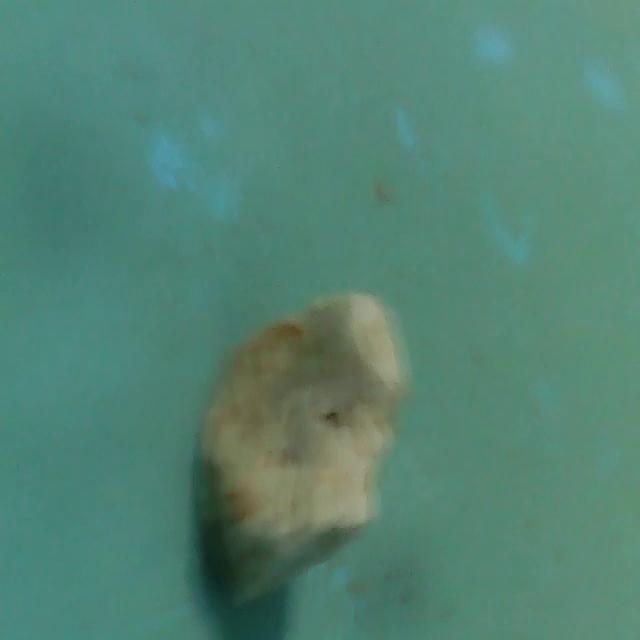rock: (194, 286, 409, 614)
